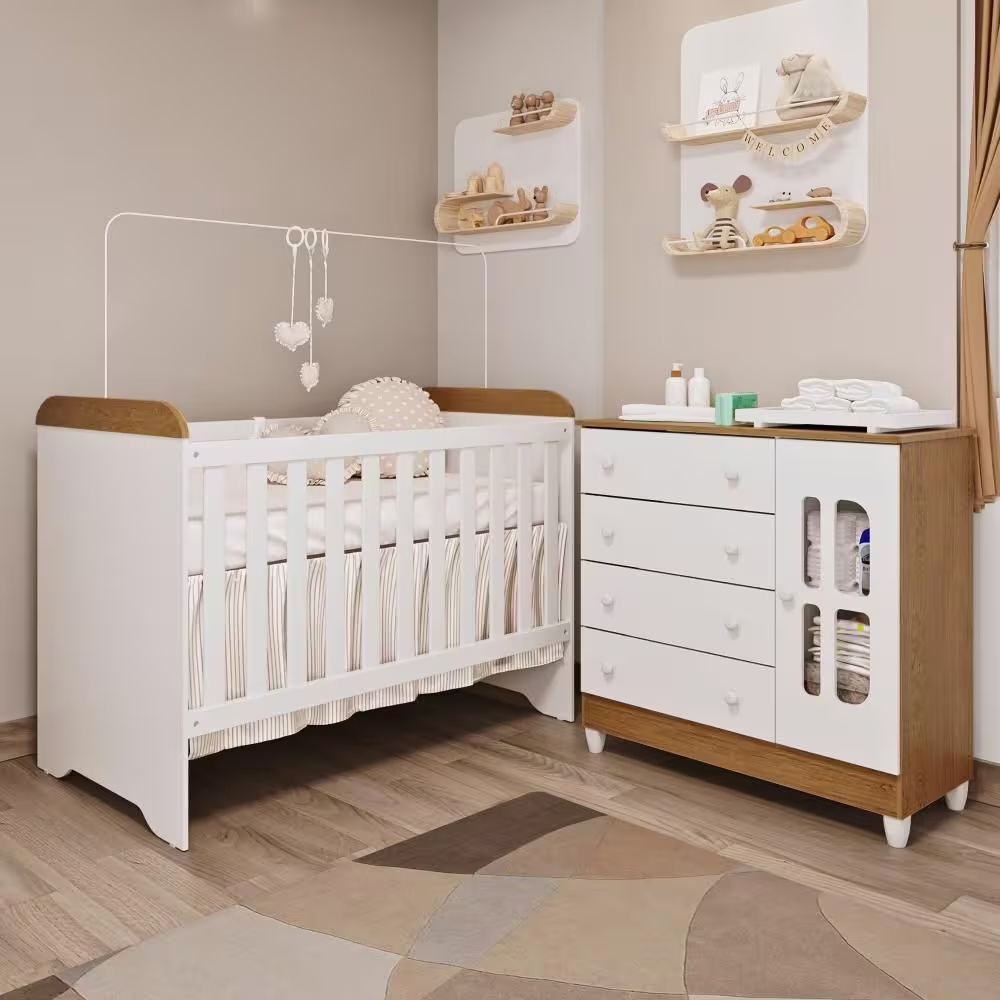crib: (37, 389, 576, 851)
